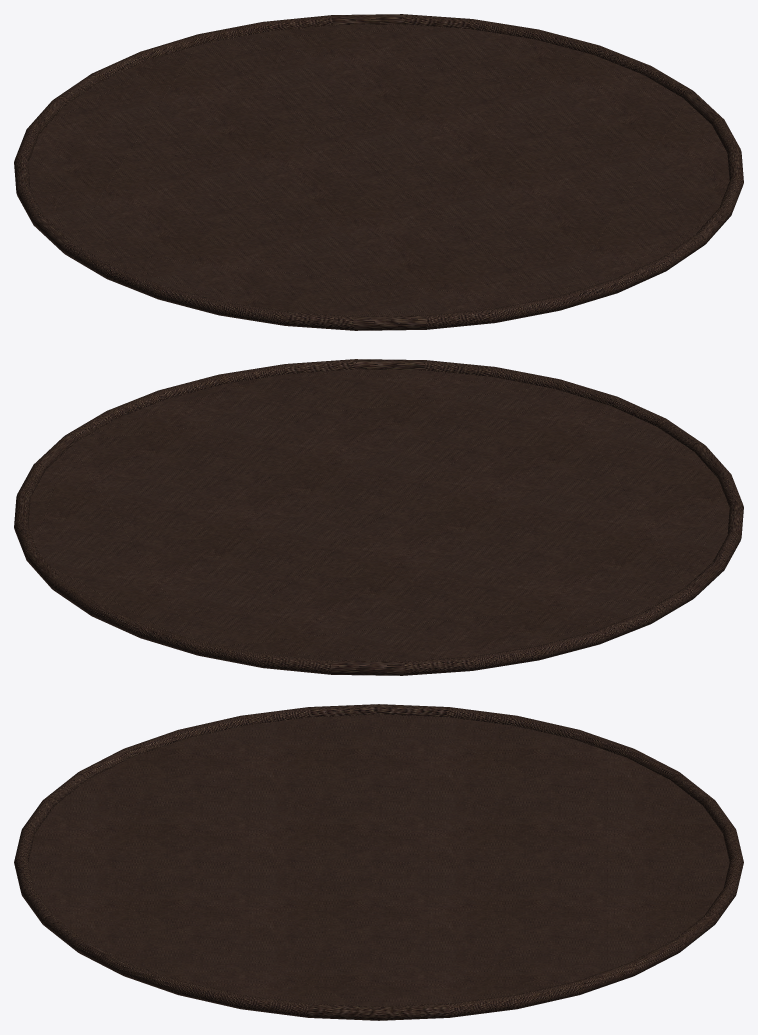
Rendered from carpet.glb.
3 views of the same model, one above another, from view 1: azimuth 30°, elevation 25°; view 2: azimuth 150°, elevation 25°; view 3: azimuth 270°, elevation 25° (orthographic).
Visible parts, largest first — view 1: Circle.001_1, Circle_0; view 2: Circle.001_1, Circle_0; view 3: Circle.001_1, Circle_0.
Part boxes in pixels (x1,y1,x2,y2): Circle.001_1: [28, 24, 729, 316]; Circle_0: [14, 14, 743, 330]; Circle.001_1: [28, 369, 729, 661]; Circle_0: [14, 359, 743, 675]; Circle.001_1: [28, 714, 729, 1006]; Circle_0: [14, 704, 743, 1020].
Size of the model in its own units: 2.04 by 0.04 by 2.04.
2 materials, 2 textured.
